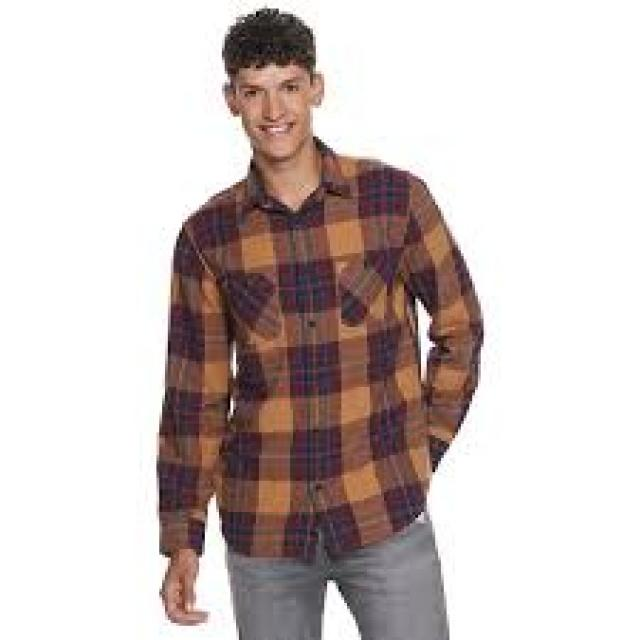plaid: (144, 155, 484, 556)
